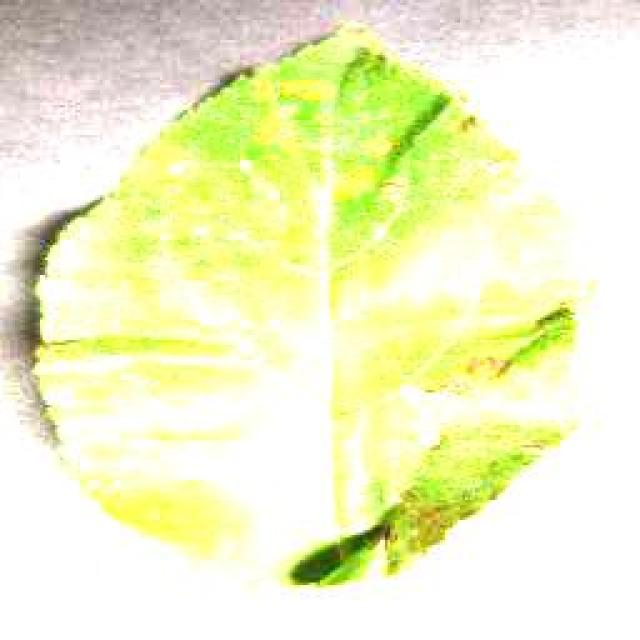apple rust disease: (0, 15, 590, 590)
